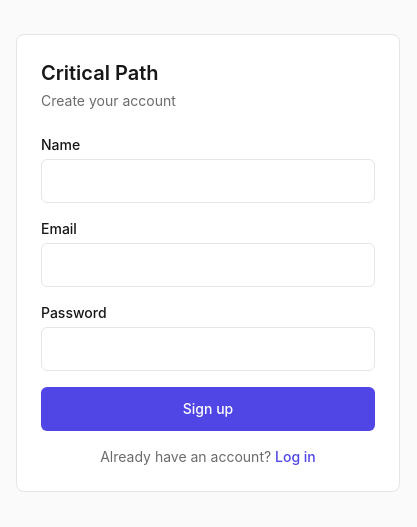
Test case: Signup › reports a taken address without starting a session
The width and height of the screenshot is (417, 527).
Type "Ada" into the field labelled "Name".
click(208, 181); type("Ada")  # box [41, 159, 375, 203]
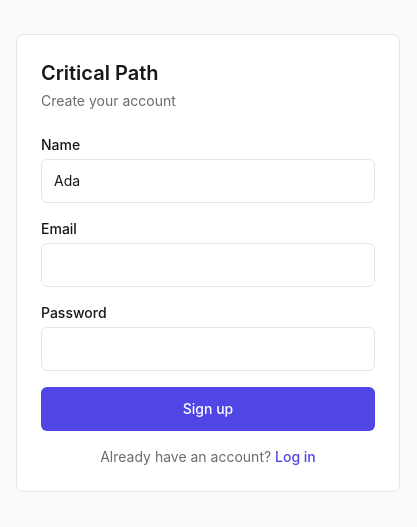
Type "ada@example.com" into the field labelled "Email".
click(208, 265); type("ada@example.com")  # box [41, 243, 375, 287]
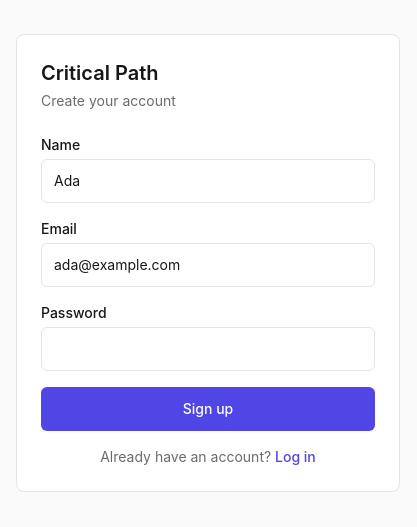
Type "password123" into the password field labelled "Password".
click(208, 349); type("password123")  # box [41, 327, 375, 371]
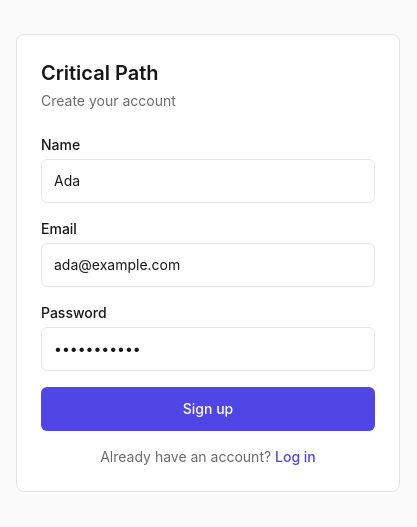
Click the button "Sign up".
click(208, 409)  # box [41, 387, 375, 431]
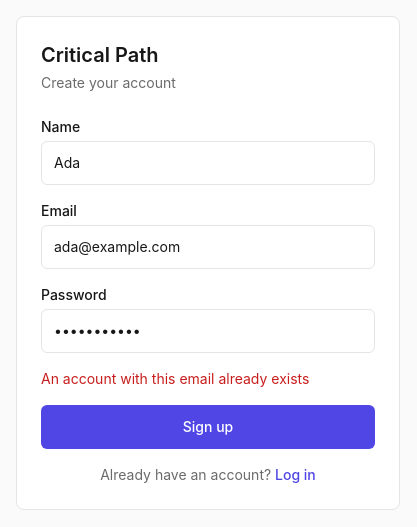
Now the message reads "An account with this email already exists", box [41, 370, 309, 387]
